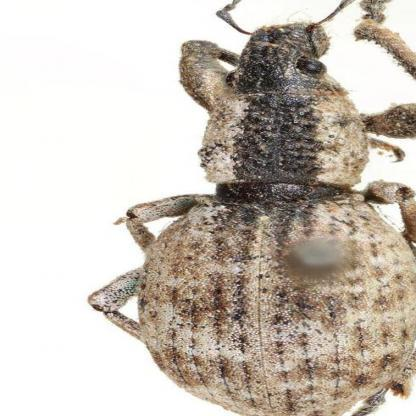rice-bug: (132, 18, 414, 416)
